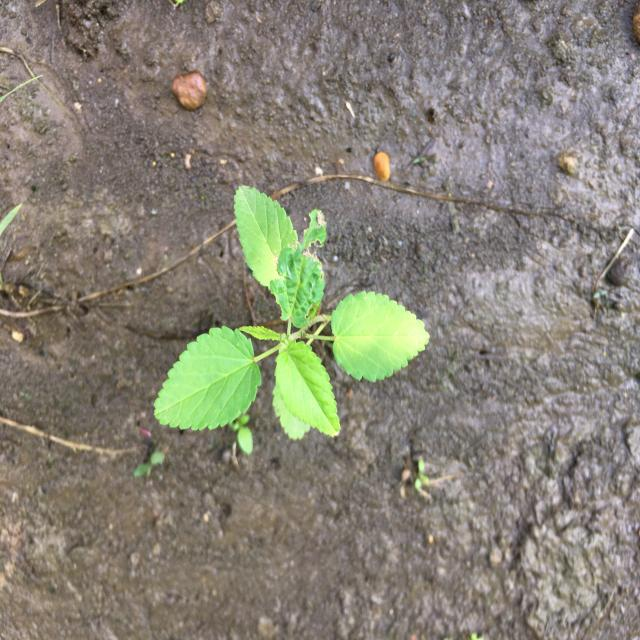PricklySida: (151, 181, 432, 445)
